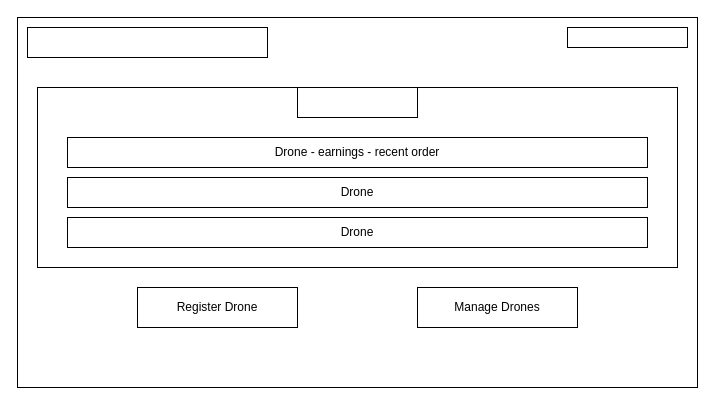
The diagram is 715 pixels wide and 405 high, and some of its shapes have lost their labels. The centre of each missing label's shape, as x and y in pixels:
"Log out" belongs at point (627, 37).
"Total earnings" belongs at point (357, 102).
"User greeting" belongs at point (147, 42).
